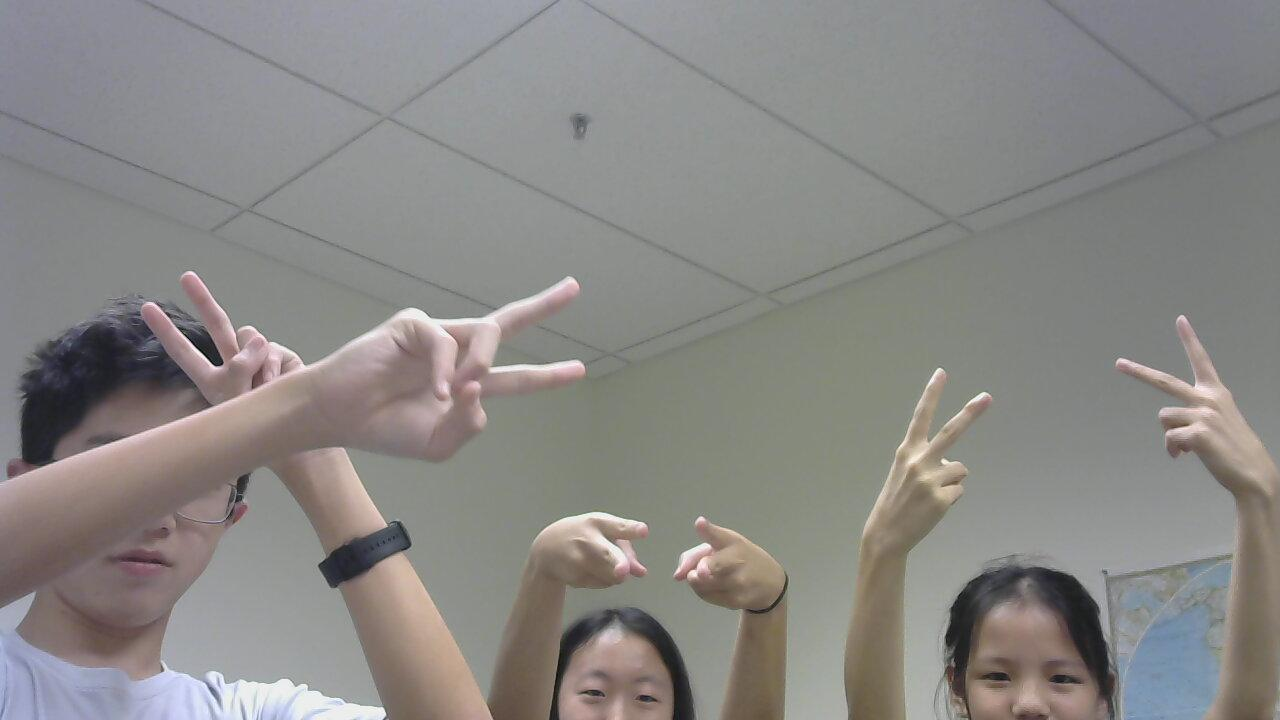peace: (333, 272, 592, 466), (1088, 299, 1280, 524), (851, 364, 982, 564), (111, 262, 327, 381), (666, 494, 804, 621), (503, 497, 645, 588)
